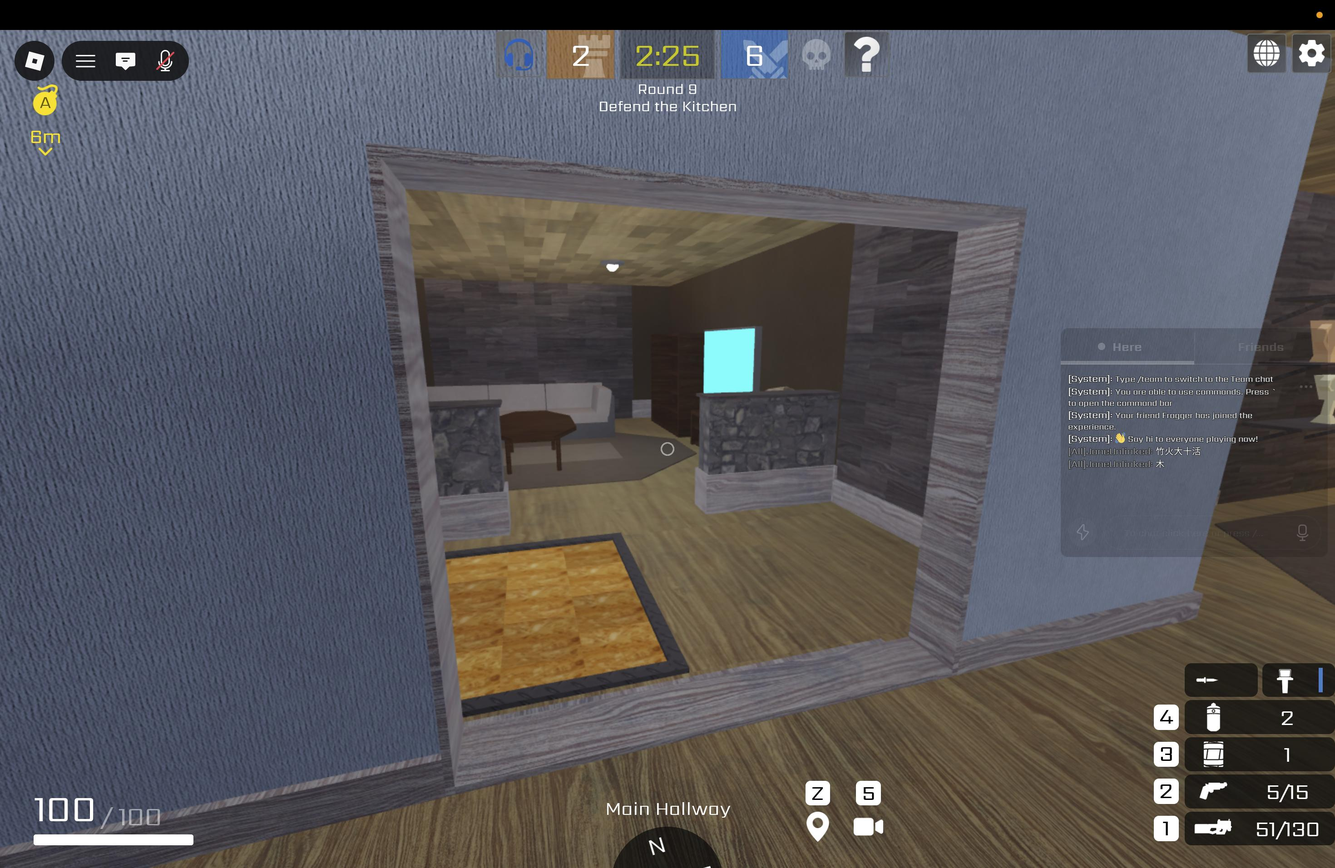enemy: (763, 386, 797, 392)
